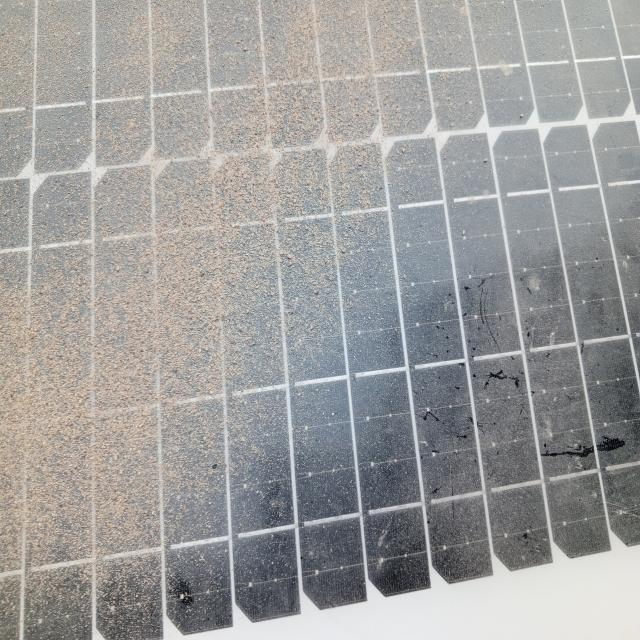Surface Contaminant: (6, 3, 639, 622)
